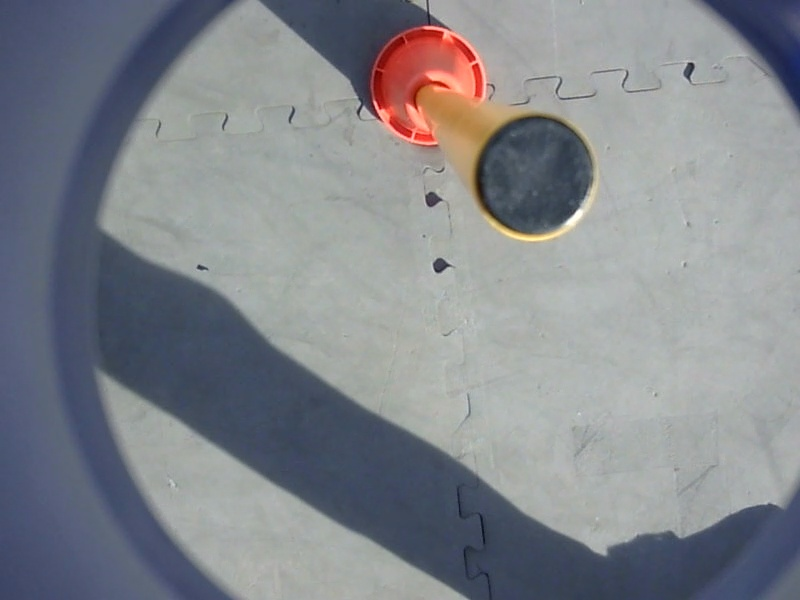tip: (462, 107, 605, 249)
